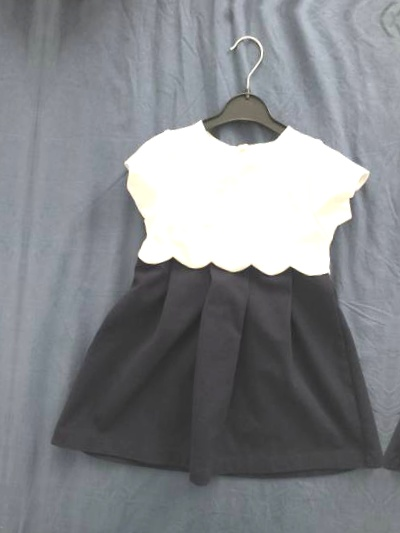Dress: (46, 83, 400, 505), (387, 115, 400, 533)
